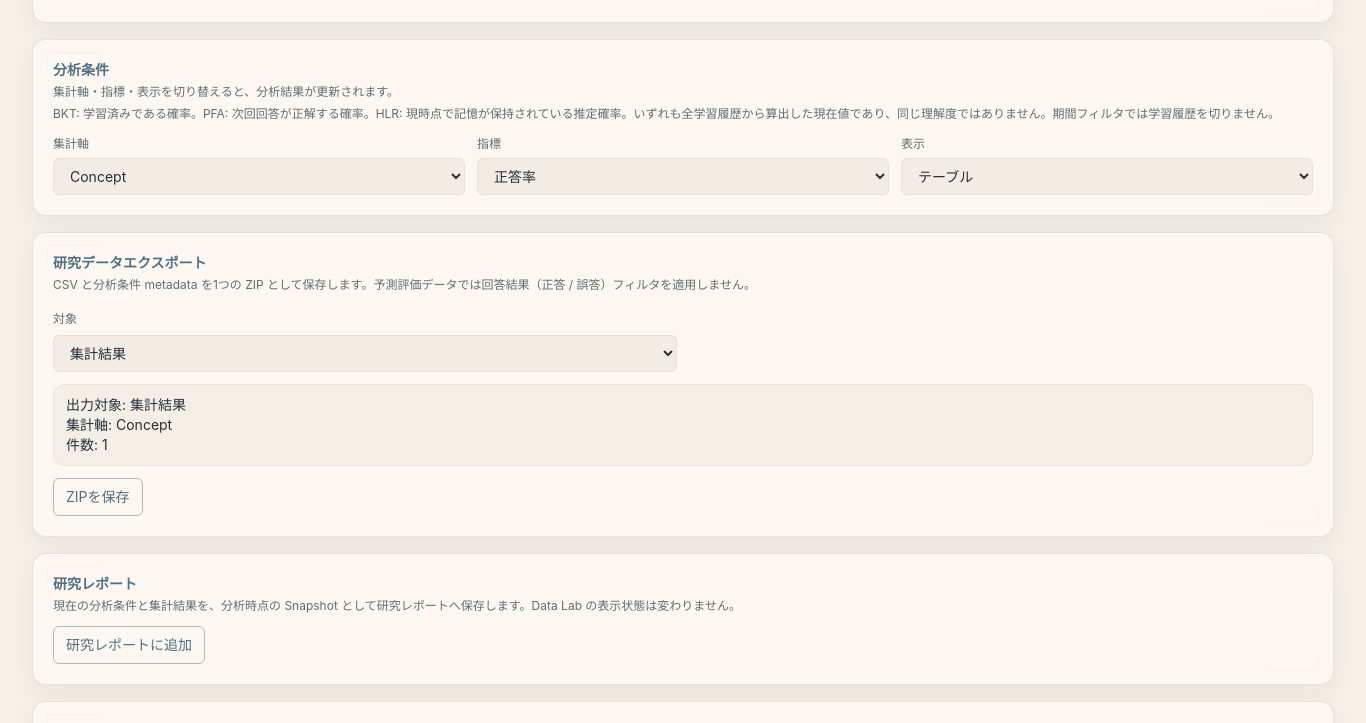
it: DataLabView (#89 / #90) › 初期状態で研究データエクスポート UI を表示し、対象を切り替えられる
(page scrolled)
Expected: the element with test id "data-lab-export-summary" shows "出力対象: 集計結果", [53,384,1313,466]
Expected: the element with test id "data-lab-export-summary" shows "集計軸: Concept", [53,384,1313,466]
Select "フィルタ済みログ" in the dropdown named "CSVエクスポート対象" at (365, 353), box [53,334,677,372]
(page scrolled)
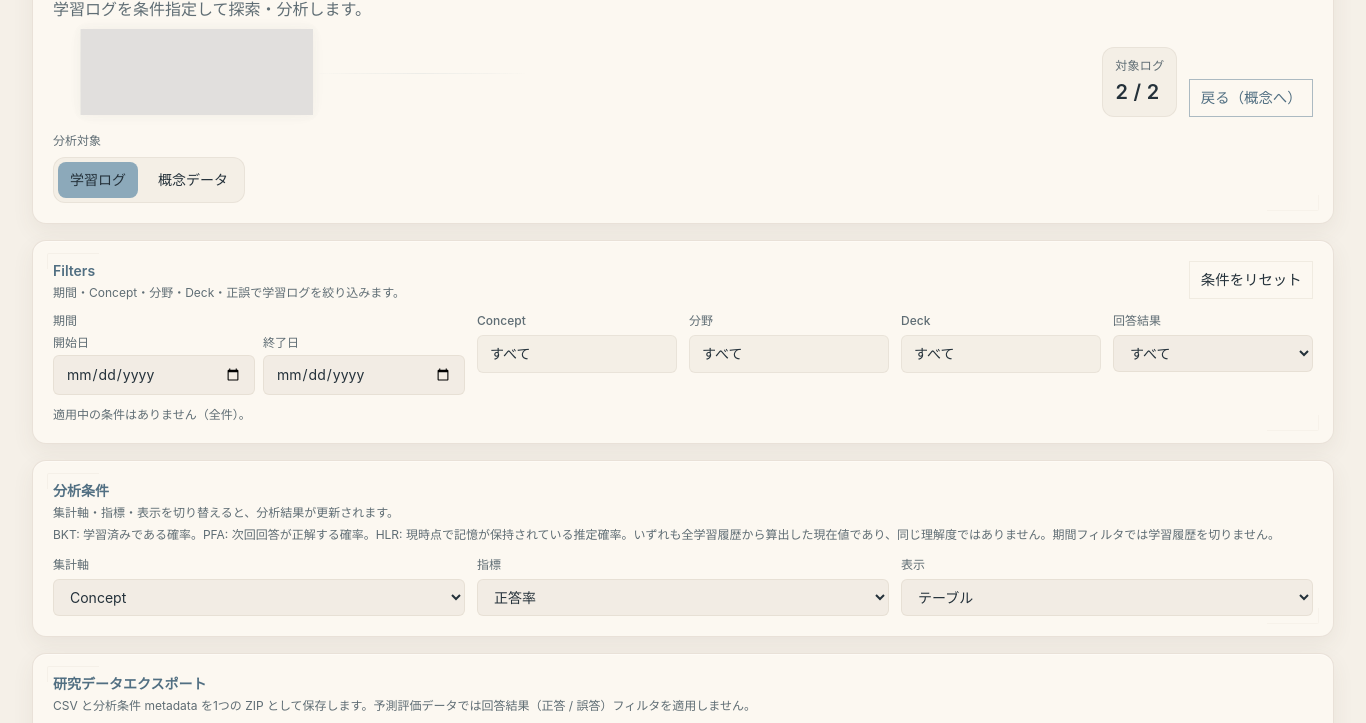
Select "誤答のみ" in the dropdown labelled "回答結果" at (1213, 354), box [1113,335,1313,372]
(page scrolled)
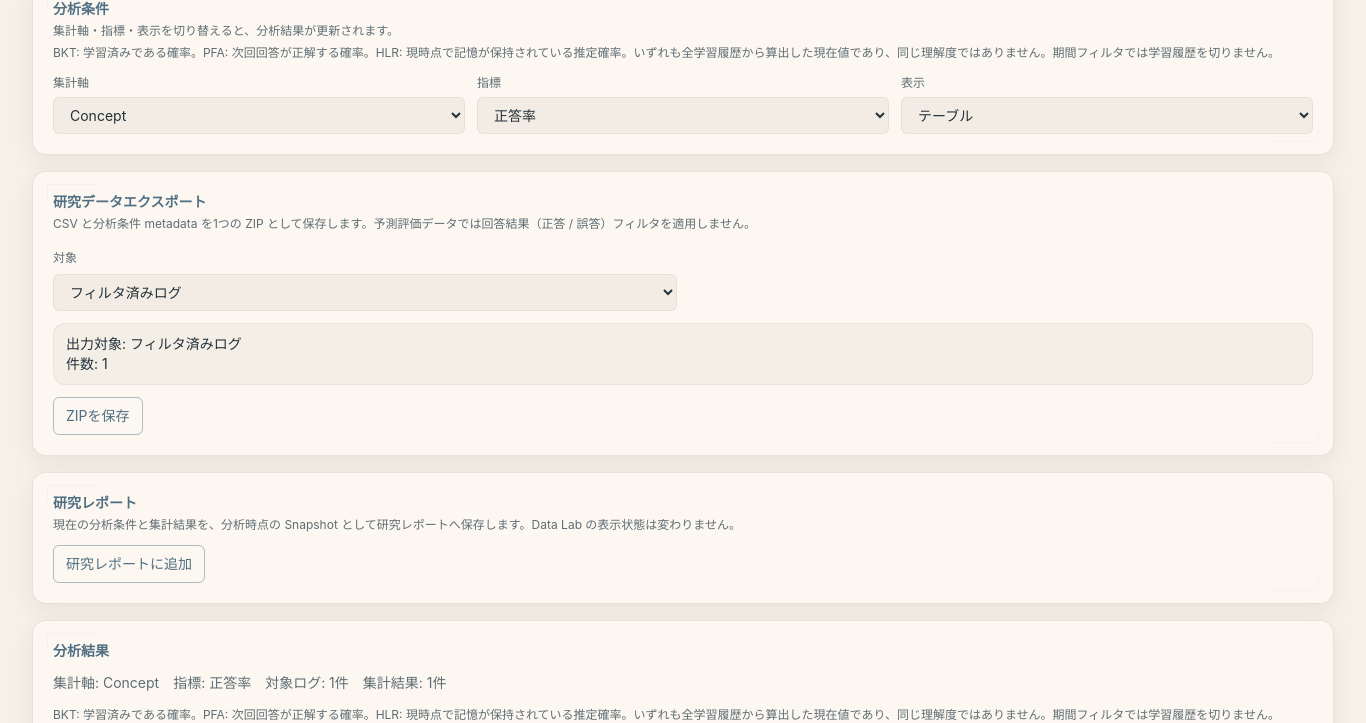
Expected: the element with test id "data-lab-export-summary" shows "件数: 1", [53,322,1313,384]
